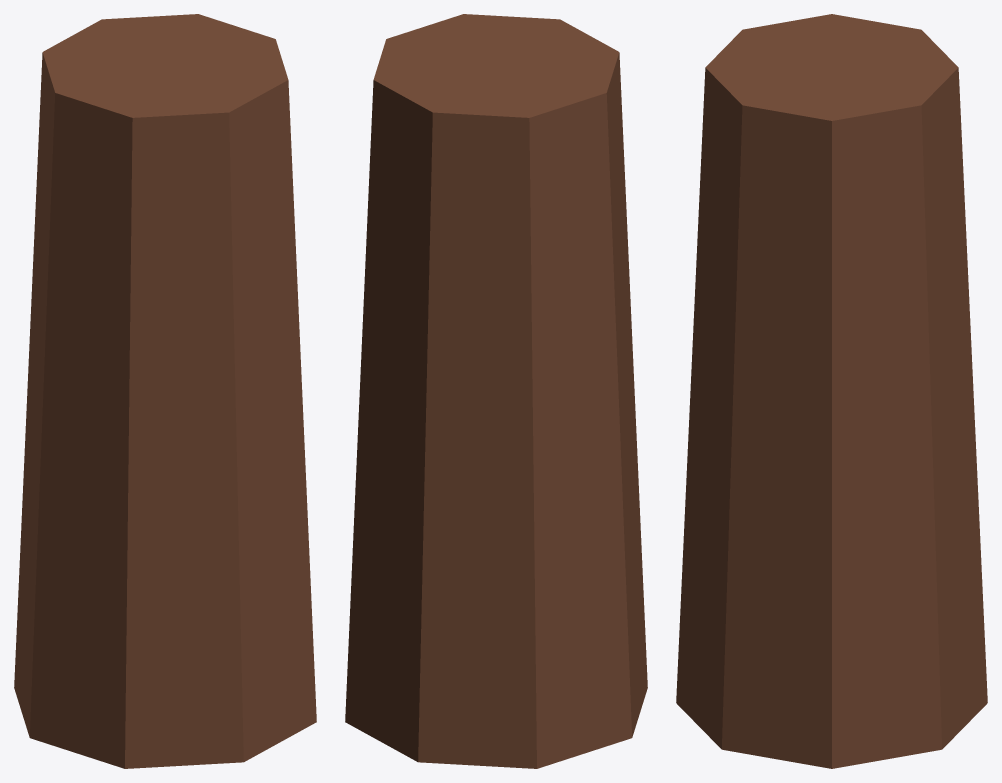
The model's file is wk_shell_forearm_bracer_v01.glb.
3 renders of one model, left to right at view 1: azimuth 30°, elevation 25°; view 2: azimuth 150°, elevation 25°; view 3: azimuth 270°, elevation 25°, orthographic.
Parts seen in each view (by area): view 1: GEO_Bracer; view 2: GEO_Bracer; view 3: GEO_Bracer.
Boxes of the visible parts, <box> form: GEO_Bracer: <box>14,14,316,768</box>; GEO_Bracer: <box>345,14,647,768</box>; GEO_Bracer: <box>676,14,987,768</box>.
Size of the model in its own units: 0.16 by 0.36 by 0.16.
